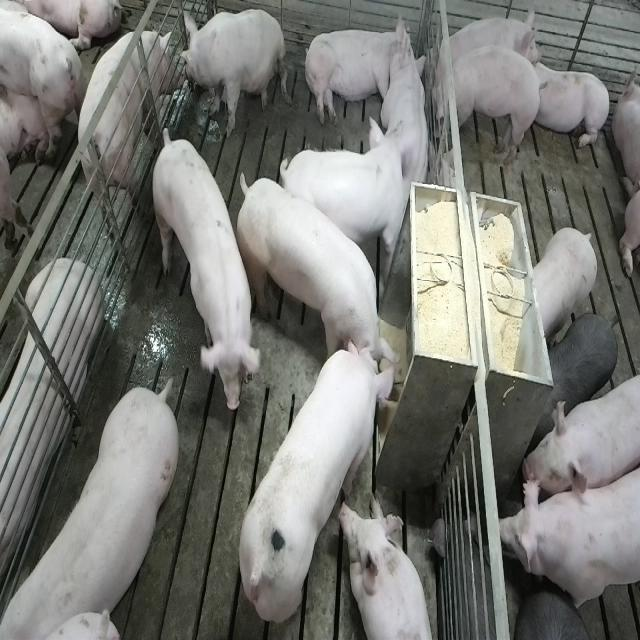Feeding: (236, 336, 400, 625), (231, 166, 400, 382)
Lateral_lying: (302, 12, 419, 128)
Sitting: (178, 8, 286, 138)
Standing: (5, 376, 184, 636), (151, 122, 259, 415), (498, 463, 638, 621), (77, 28, 180, 237), (277, 127, 408, 264), (519, 366, 637, 508), (429, 43, 543, 168), (0, 0, 80, 158), (539, 309, 621, 433), (530, 226, 598, 346), (512, 590, 605, 640)
Sternal_lying: (0, 259, 100, 595), (343, 494, 437, 640), (529, 53, 612, 154), (380, 44, 434, 198), (454, 13, 543, 78)
